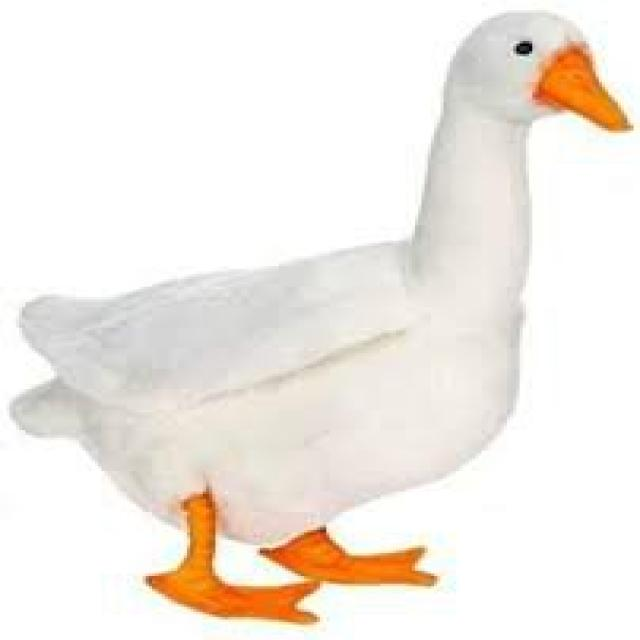Goose: (18, 5, 629, 632)
